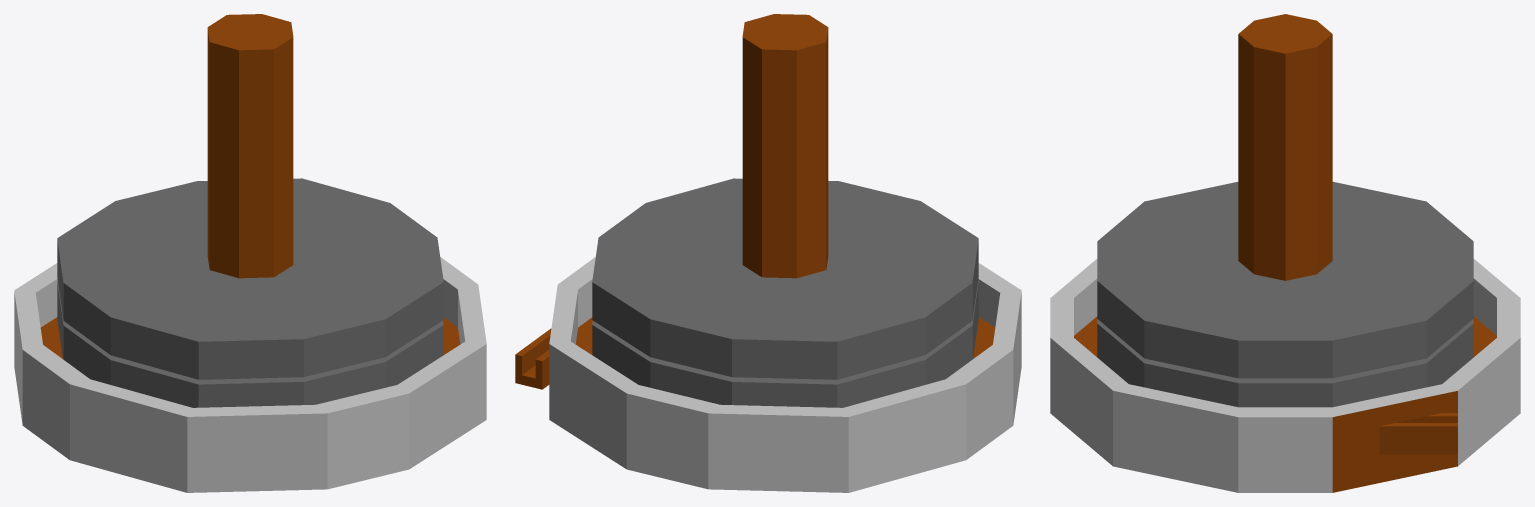
The model's file is mill.obj.
3 views of the same model, side by side, from view 1: azimuth 30°, elevation 25°; view 2: azimuth 150°, elevation 25°; view 3: azimuth 270°, elevation 25° (orthographic).
Visible parts, largest first — view 1: mill_back; view 2: mill_back; view 3: mill_back.
Part boxes in pixels (x1,y1,x2,y2): mill_back: (14,14,486,492); mill_back: (515,14,1021,492); mill_back: (1050,14,1520,492).
Bounding box in the file's own units: 3.6 × 3.04 × 3.6.
